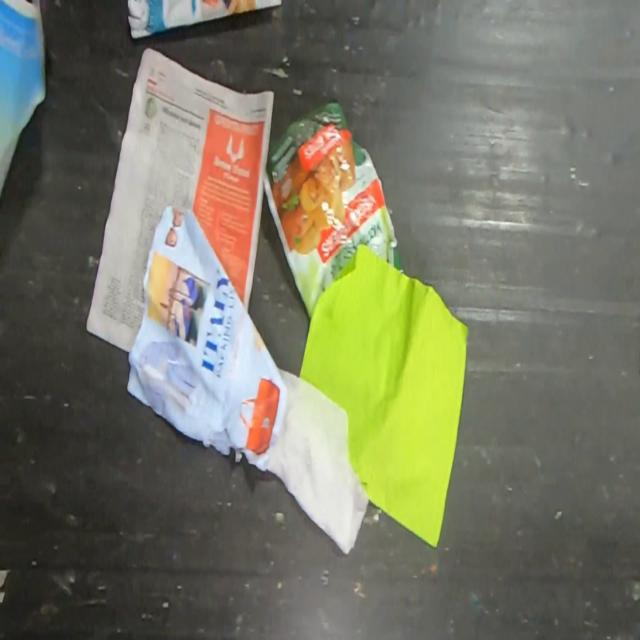soft_plastic: (261, 100, 403, 320)
